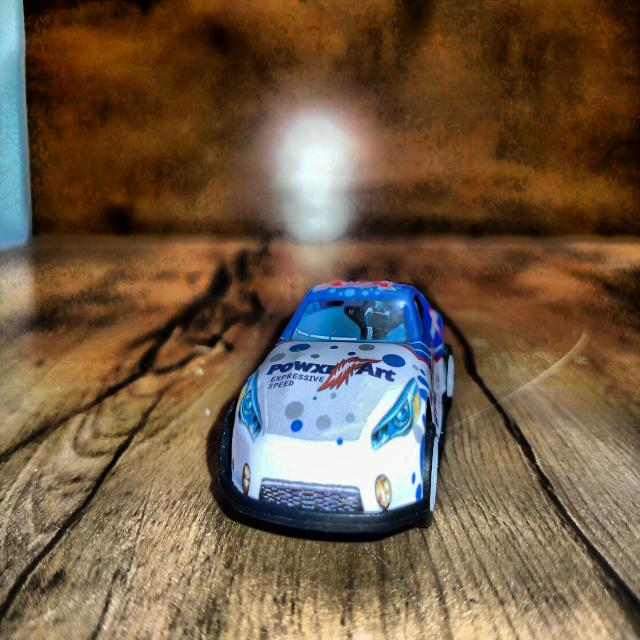Car: (219, 282, 454, 534)
